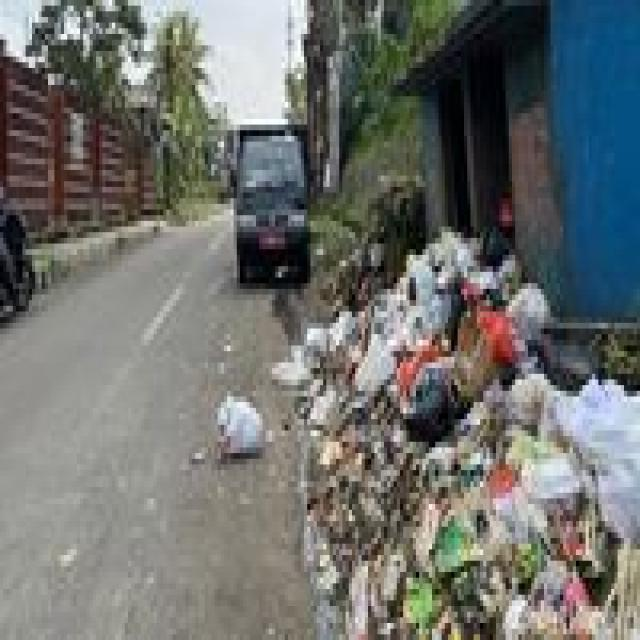trash: (285, 289, 640, 640)
